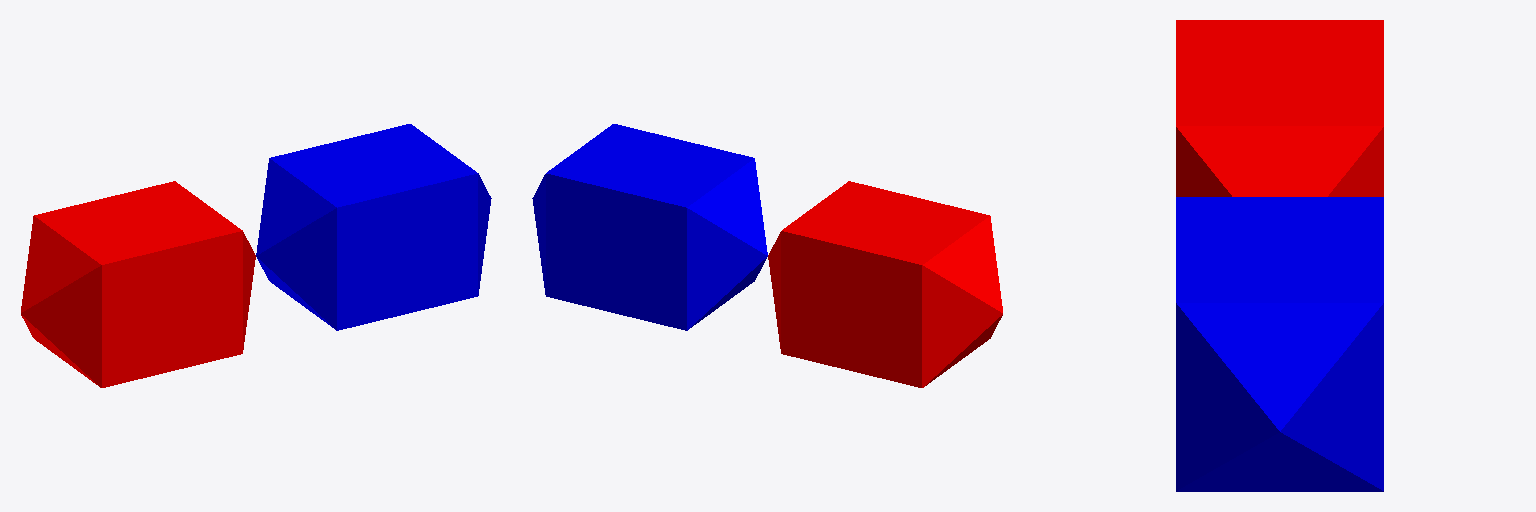
The robot description file, URDF, robot "2dof_robot_arm":
<robot name="2dof_robot_arm">

  <link name="base_link">
    <inertial>
      <origin
        xyz="0 0 0"
        rpy="0 0 0" />
      <mass
        value="10" />
      <inertia
        ixx="0.00040827"
        ixy="1.2675E-09"
        ixz="1.8738E-05"
        iyy="0.00038791"
        iyz="3.5443E-08"
        izz="3.6421E-05" />
    </inertial>
  </link>

  <link name="link1">
    <inertial>
      <origin
        xyz="0 0 0"
        rpy="0 0 0" />
      <mass
        value="10" />
      <inertia
        ixx="0.00040827"
        ixy="1.2675E-09"
        ixz="1.8738E-05"
        iyy="0.00038791"
        iyz="3.5443E-08"
        izz="3.6421E-05" />
    </inertial>
    <visual>
      <origin
        xyz="0 -125 -125"
        rpy="0 0 0" />
      <geometry>
        <mesh
          filename="./arm.stl" />
      </geometry>
      <material
        name="">
        <color
          rgba="1 0 0 0.5" />
      </material>
    </visual>
    <collision>
      <origin
        xyz="0 0 0"
        rpy="0 0 0" />
      <geometry>
        <mesh
          filename="./arm.stl" />
      </geometry>
    </collision>
  </link>

  <joint name="joint1" type="revolute">
    <origin
      xyz="0 0 0"
      rpy="0 0 0" />
    <parent
      link="base_link" />
    <child
      link="link1" />
    <axis
      xyz="0 -1 0" />
    <limit
      lower="0"
      upper="0"
      effort="0"
      velocity="0" />
    <dynamics
      damping="0.05" />
  </joint>

  <link name="link2">
    <inertial>
      <origin
        xyz="0 0 0"
        rpy="0 0 0" />
      <mass
        value="10" />
      <inertia
        ixx="0.0011753"
        ixy="-3.854E-13"
        ixz="-2.9304E-08"
        iyy="0.0011666"
        iyz="-5.2365E-12"
        izz="1.4553E-05" />
    </inertial>
    <visual>
      <origin
        xyz="0 -125 -125"
        rpy="0 0 0" />
      <geometry>
        <mesh
          filename="./arm.stl" />
      </geometry>
      <material
        name="">
        <color
          rgba="0 0 1 0.5" />
      </material>
    </visual>
    <collision>
      <origin
        xyz="0 0 0"
        rpy="0 0 0" />
      <geometry>
        <mesh
          filename="./arm.stl" />
      </geometry>
    </collision>
  </link>

  <joint name="joint2" type="revolute">
    <origin
      xyz="500 0 0"
      rpy="0 0 0" />
    <parent
      link="link1" />
    <child
      link="link2" />
    <axis
      xyz="0 -1 0" />
    <limit
      lower="0"
      upper="0"
      effort="0"
      velocity="0" />
    <dynamics
      damping="0.05" />
  </joint>

  <link name="link3" />

  <joint name="end-effector" type="fixed">
    <origin
      xyz="500 0 0"
      rpy="0 0 0" />
    <parent
      link="link2" />
    <child
      link="link3" />
  </joint>

</robot>

--- What the picture shows (computed from the rendered views, not written in the file) ---
The picture shows the robot from 3 angles, left to right: view 1: azimuth 30°, elevation 25°; view 2: azimuth 150°, elevation 25°; view 3: azimuth 270°, elevation 25°; orthographic projection.
Model 2dof_robot_arm with 4 links and 3 joints (2 revolute, 1 fixed), rooted at base_link, posed every joint at zero.
Links seen in each view (by area): view 1: link1, link2; view 2: link1, link2; view 3: link2, link1.
Boxes of the visible links, x1,y1,x2,y2 form: link1: [21, 181, 255, 387]; link2: [256, 124, 491, 330]; link1: [768, 181, 1002, 387]; link2: [532, 124, 767, 330]; link2: [1176, 197, 1383, 491]; link1: [1176, 20, 1383, 196].
Size in the robot's own frame: 1000 by 250 by 250 metres.
Meshes: 1 distinct files referenced, 2 mesh visuals loaded (1 binary STL).